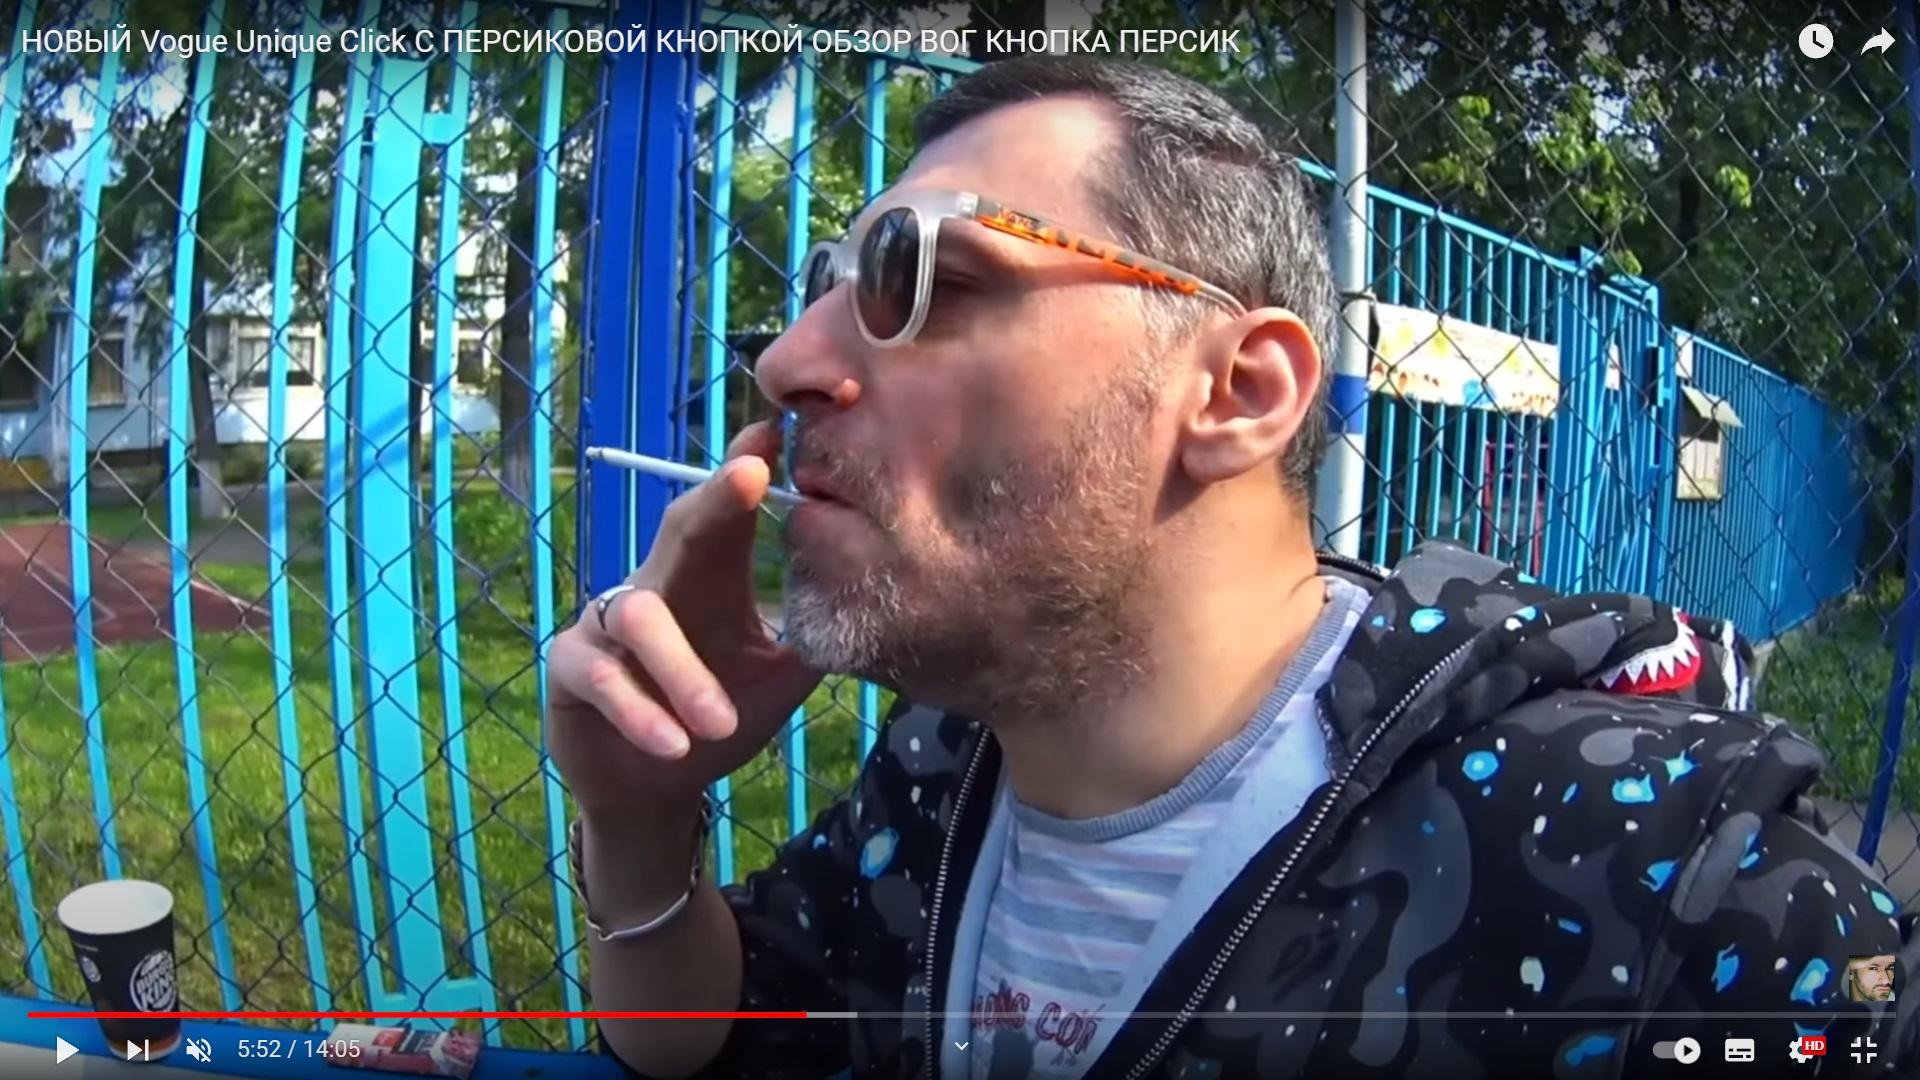cigarette: (587, 447, 820, 506)
